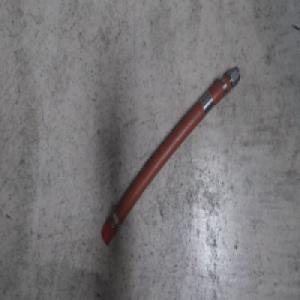Hose: (100, 64, 241, 249)
